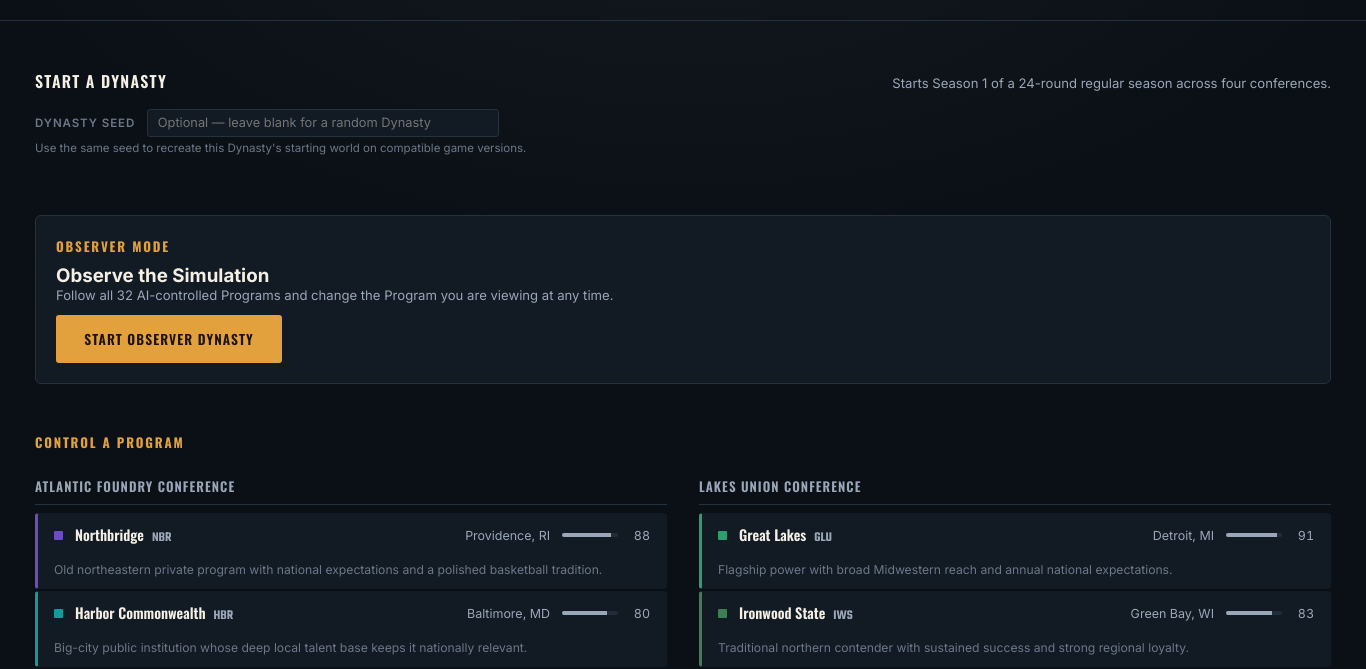
Season Presentation › creates an Observer Dynasty from the dedicated creation action
Click the button "Start Observer Dynasty".
click(169, 339)  # box [56,315,282,363]
(page scrolled)
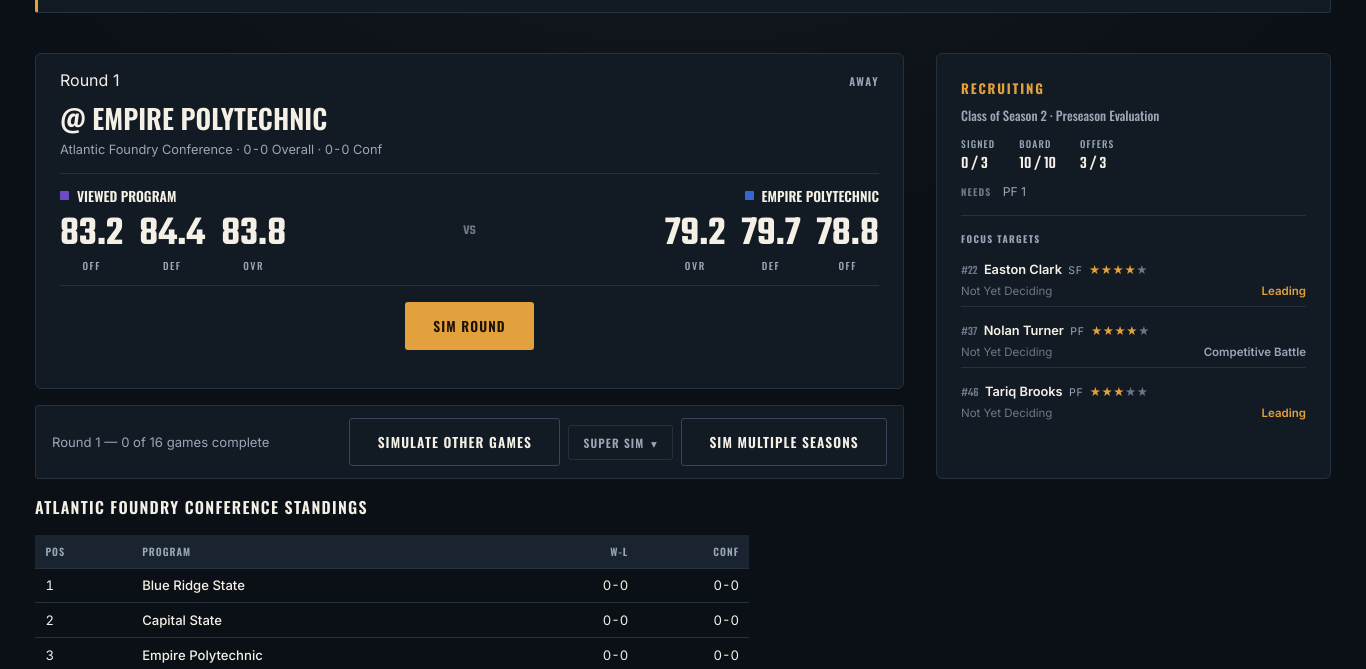
Expected: the button "Sim Round" is shown, [405,302,534,350]
